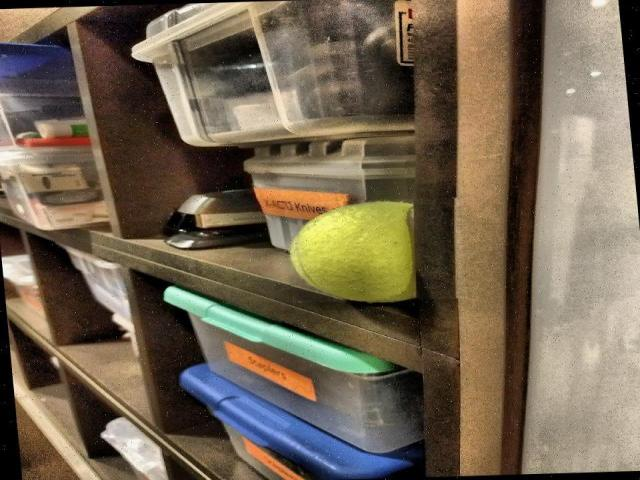tennis-ball: (291, 201, 418, 303)
